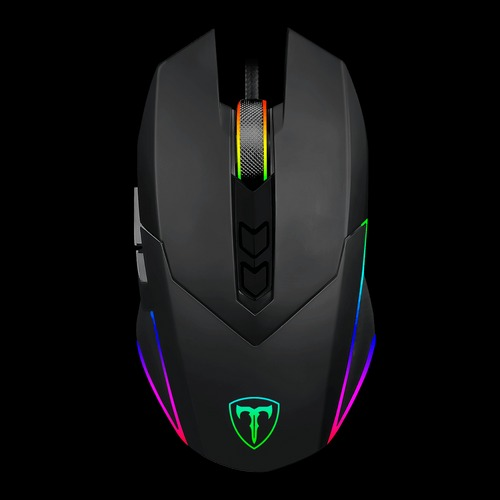mouse: (115, 22, 389, 478)
